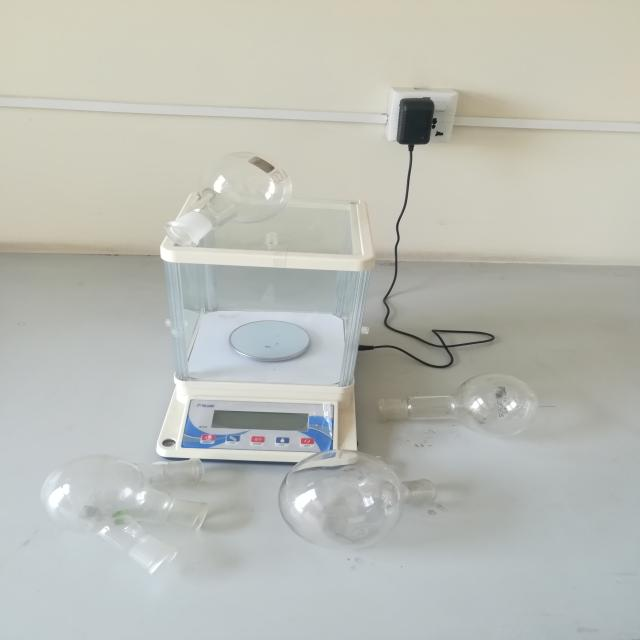Round_Bottom_Flask_Borosilicate_Glass_1_Neck: (144, 130, 316, 276), (332, 350, 534, 456)
Round_Bottom_Flask_Borosilicate_Glass_2_Neck: (256, 428, 497, 566)
Round_Bottom_Flask_Borosilicate_Glass_3_Neck: (18, 424, 240, 588)
